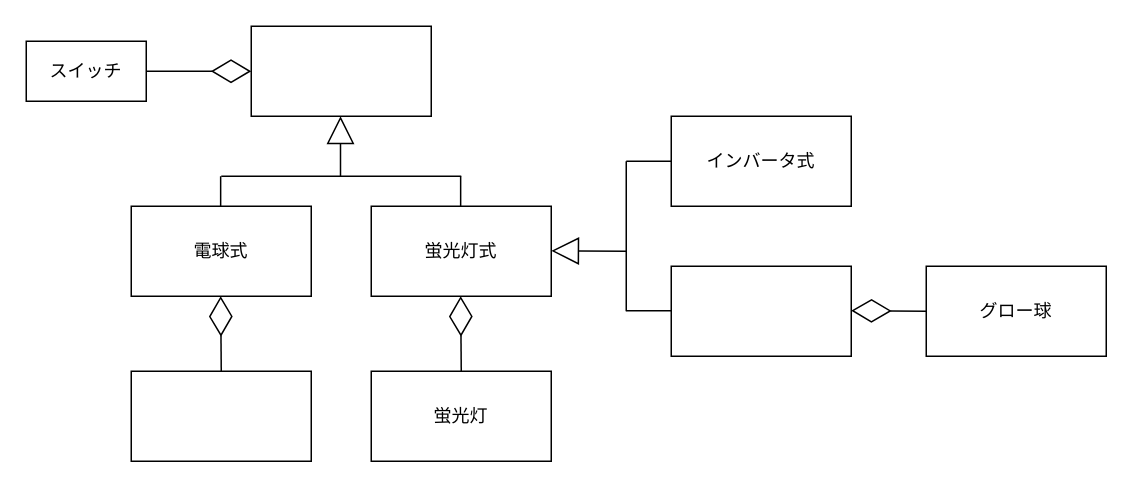
The diagram is 1133 pixels wide and 488 high, and some of its shapes have lost their labels. Here are the shapes that lost their labels. From the top down, the centre of each, then its label:
the point at 340,70: 電気スタンド
the point at 760,310: グロー式
the point at 220,415: 電球
